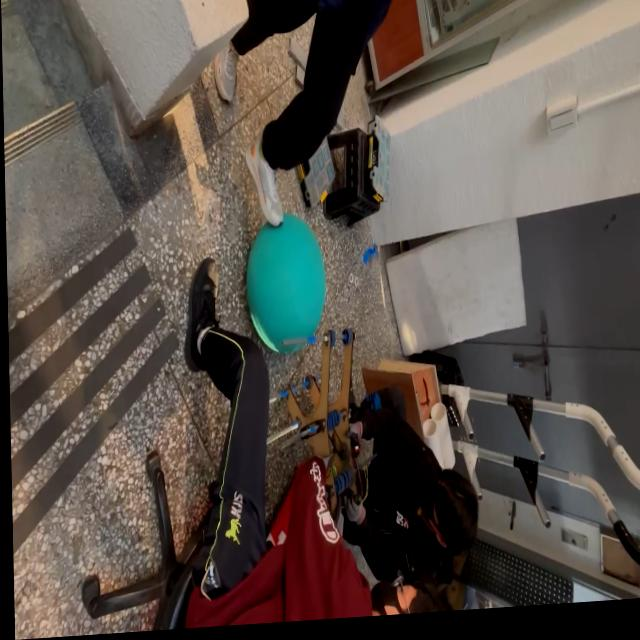ALGAE: (243, 208, 328, 359)
